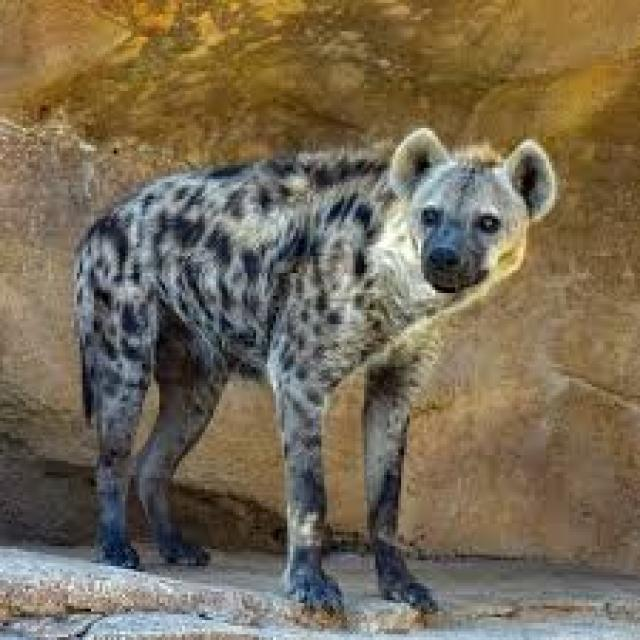Hyena: (78, 117, 569, 640)
